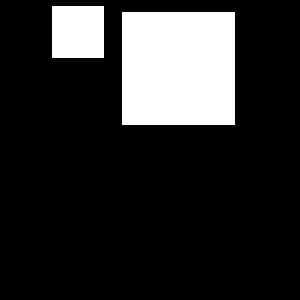circle: (122, 12, 235, 125), (52, 6, 104, 58), (85, 10, 94, 19)
